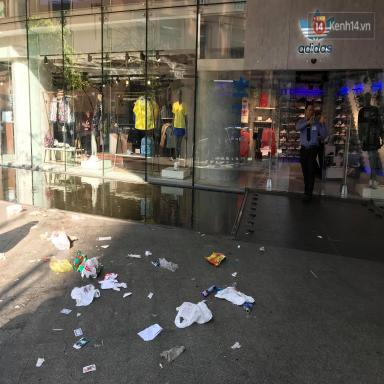person: (297, 100, 327, 210)
plasticbag: (174, 298, 214, 326), (212, 284, 255, 306), (78, 250, 102, 280), (99, 272, 128, 296), (70, 282, 97, 306), (48, 229, 74, 253), (204, 246, 227, 271), (50, 254, 72, 274), (158, 254, 178, 273)
